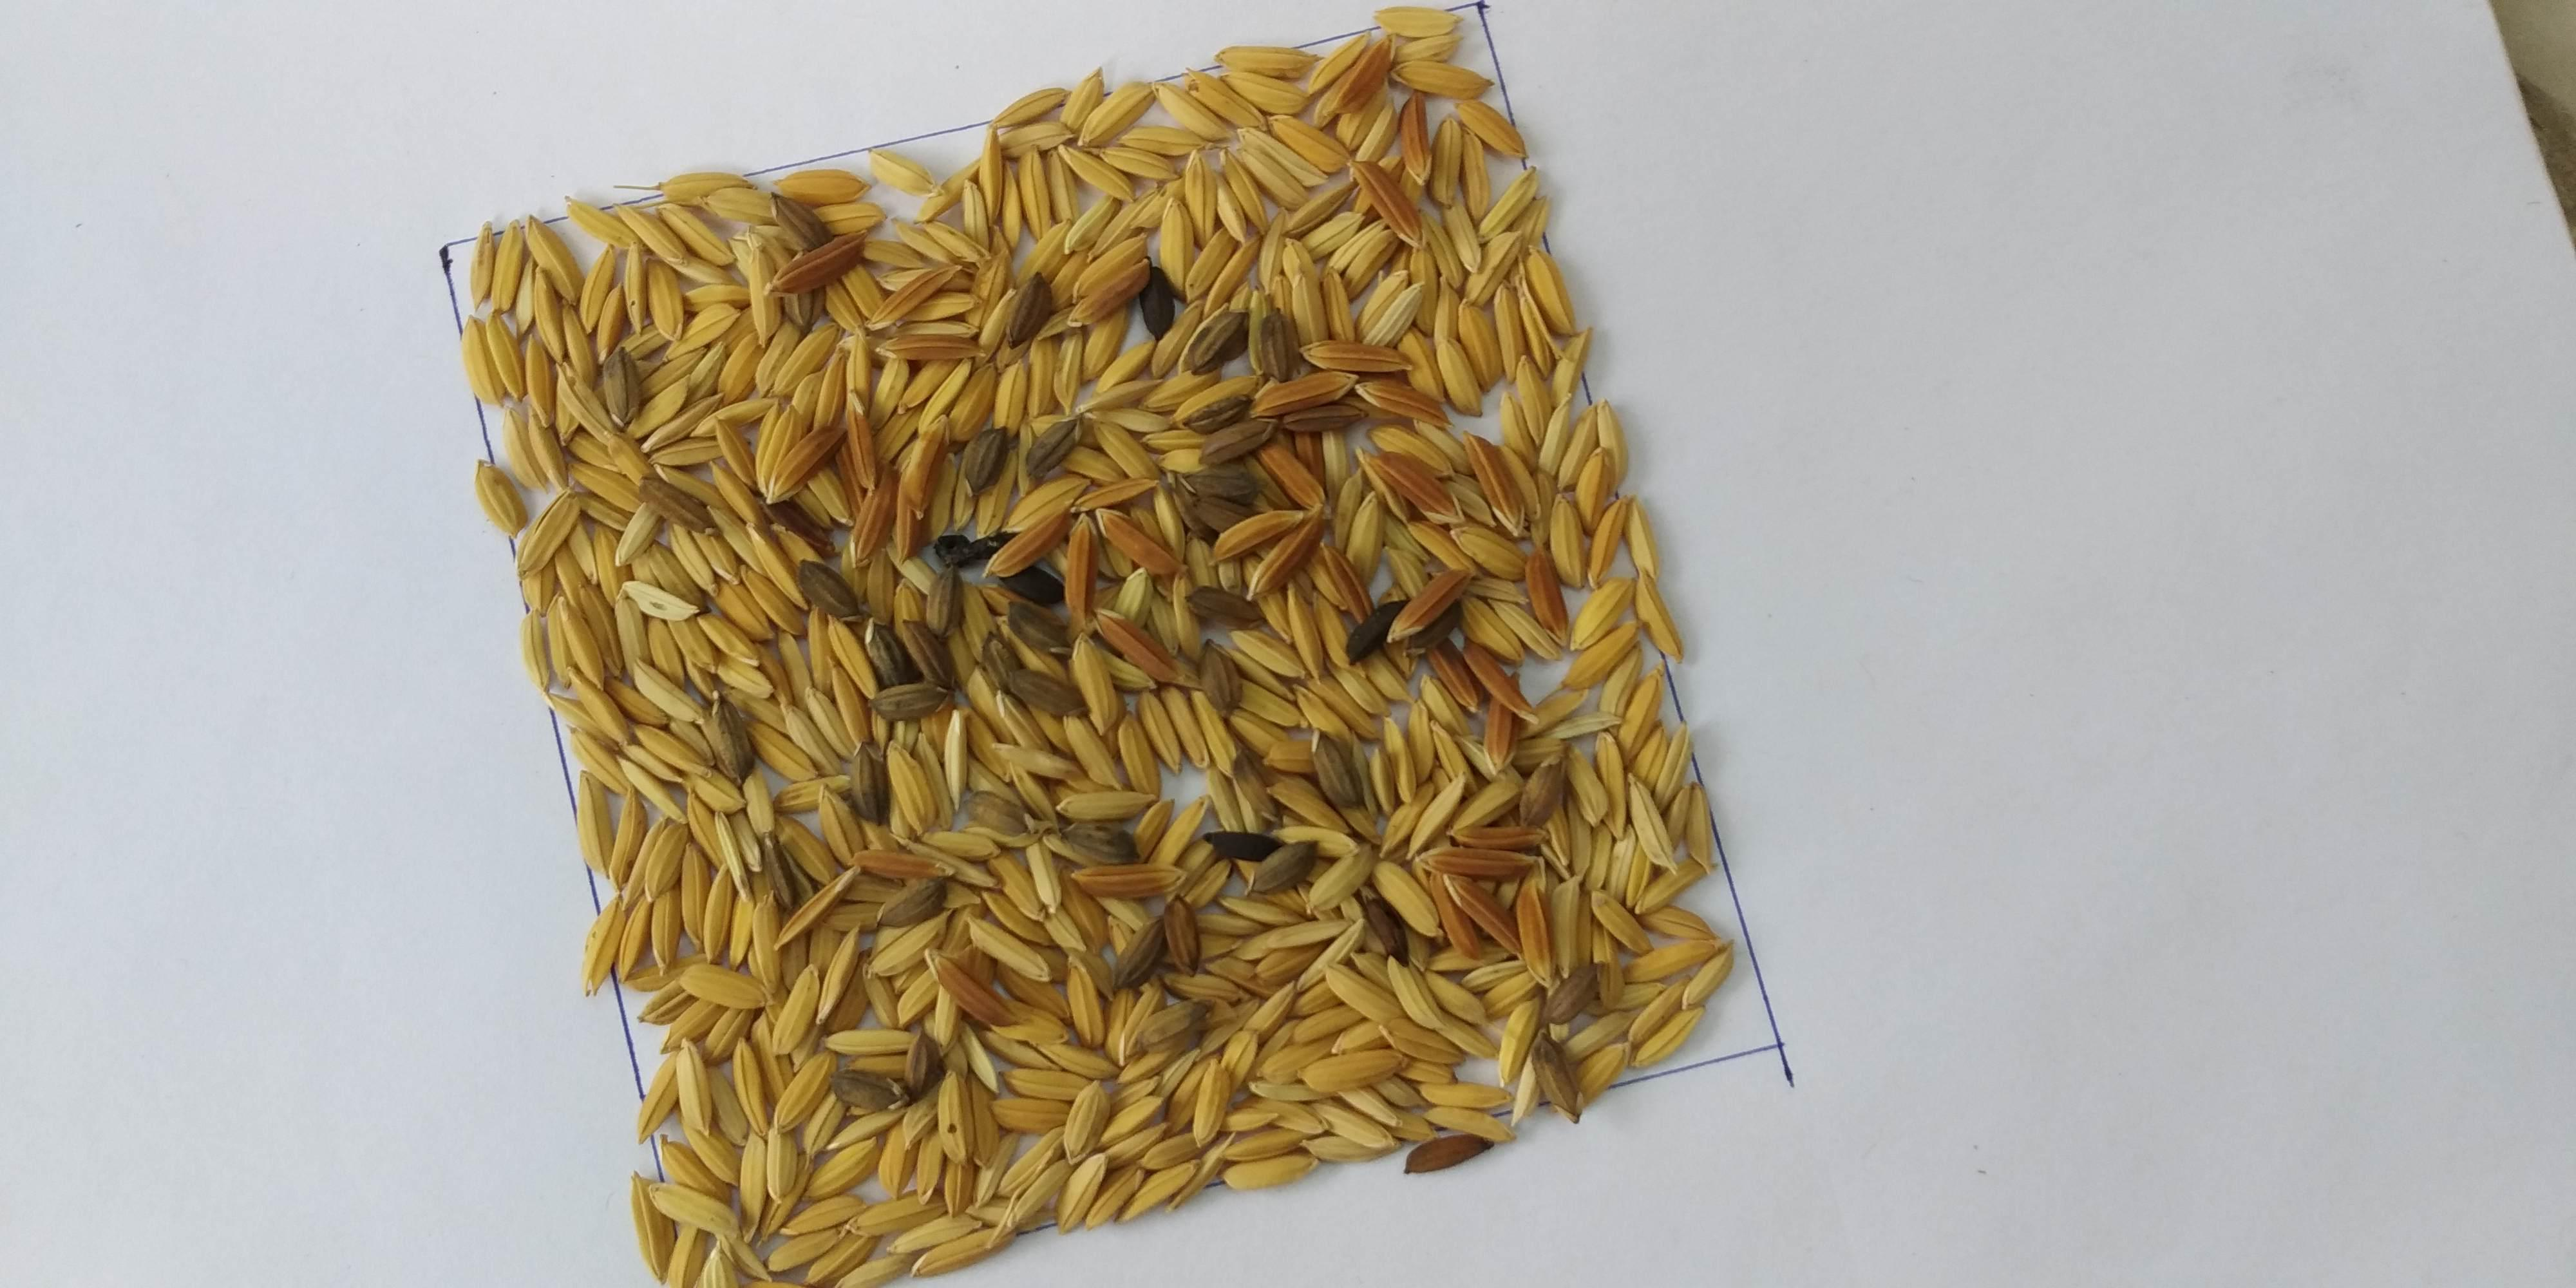impure: (710, 182, 1444, 1138)
